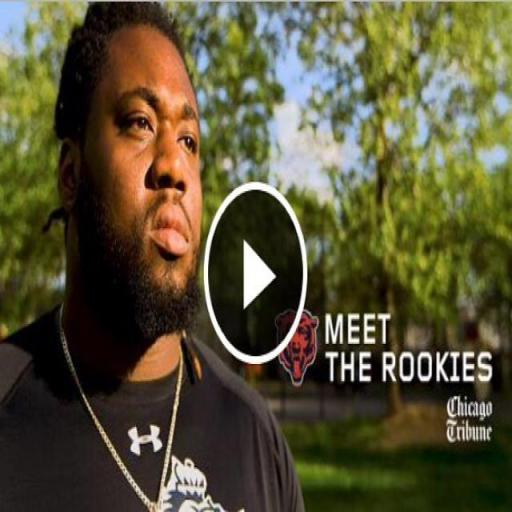Under Armour: (126, 418, 164, 460)
